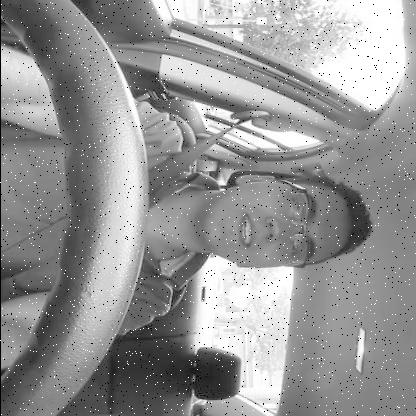seatbelt: (0, 111, 382, 277)
